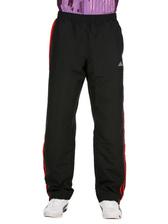clothoes: (45, 9, 127, 203)
shoes: (40, 193, 76, 219), (94, 196, 123, 219)
